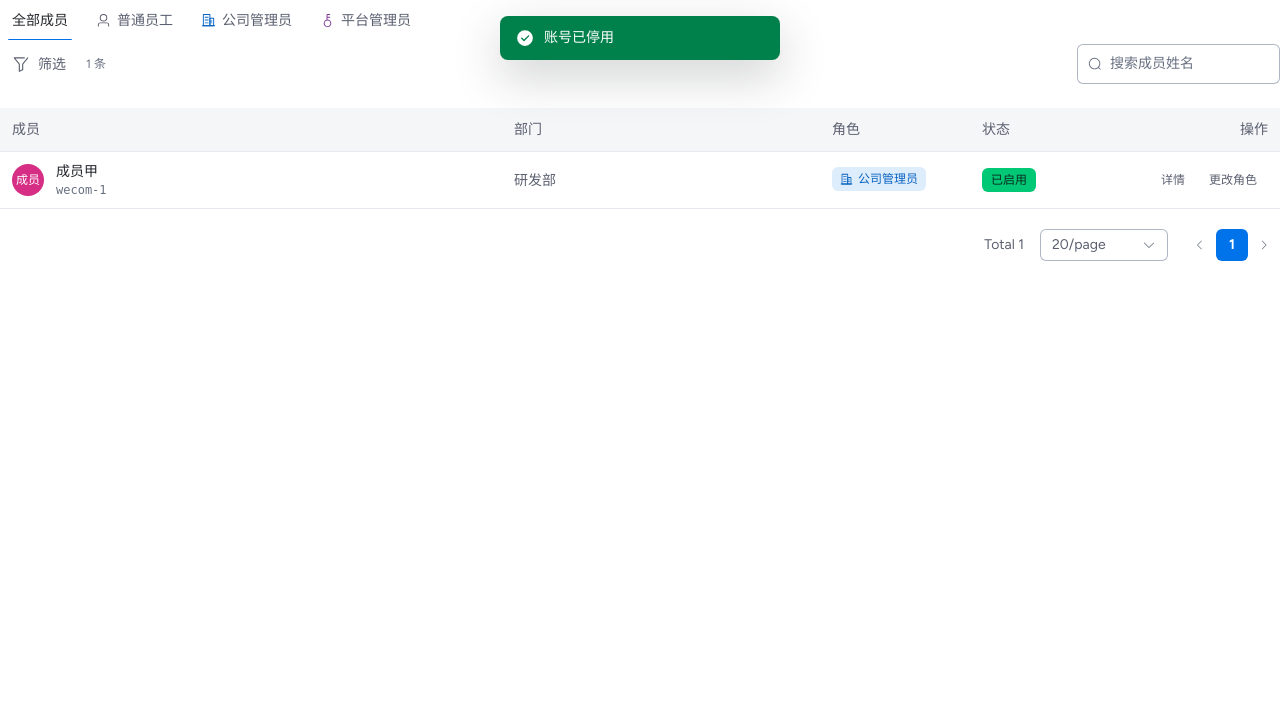
成员版本冲突 › 当前层级 COMPANY_ADMIN 即使填写理由也不能提交
Click the button "更改角色".
click(1233, 180)  # box [1198,164,1268,196]
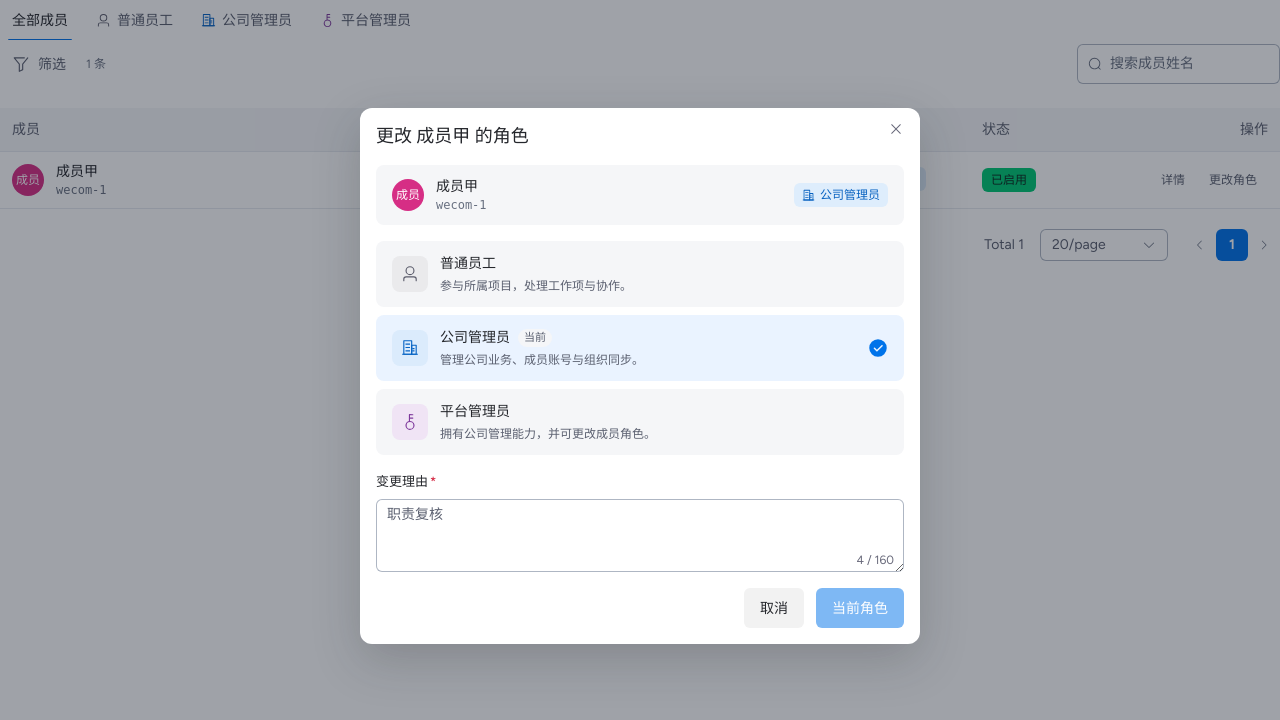
Expected: the button "当前角色" is shown, [816,588,904,628]
